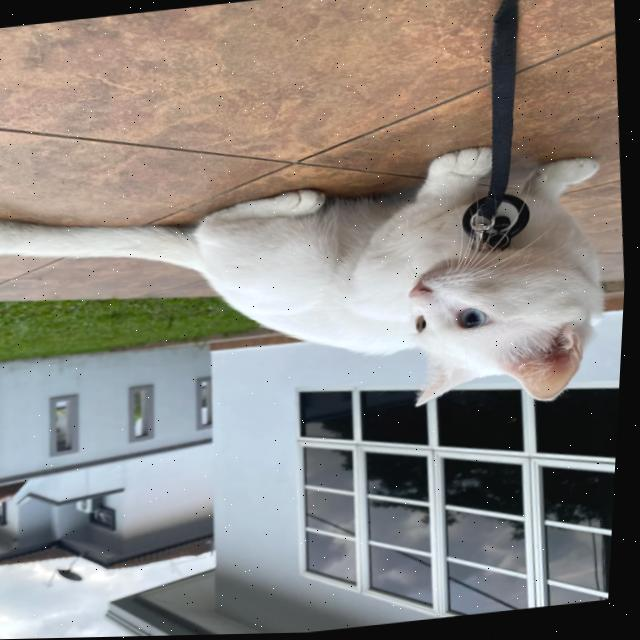Khao Manee: (0, 127, 632, 471)
